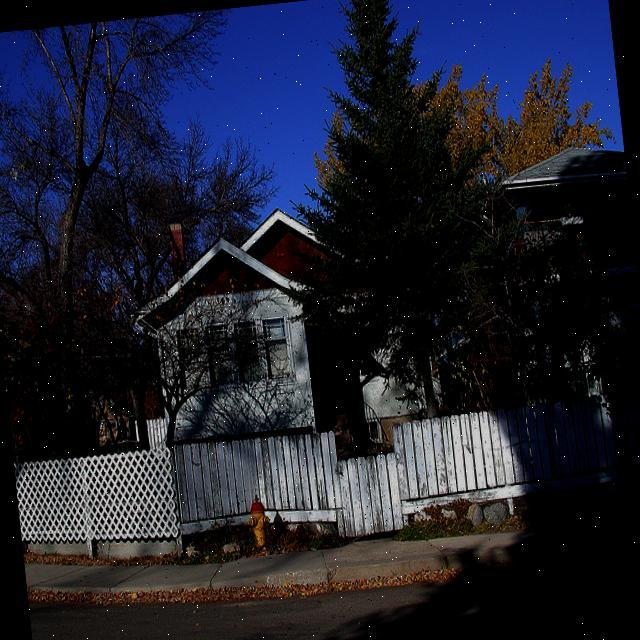fire_hydrant: (244, 492, 274, 550)
